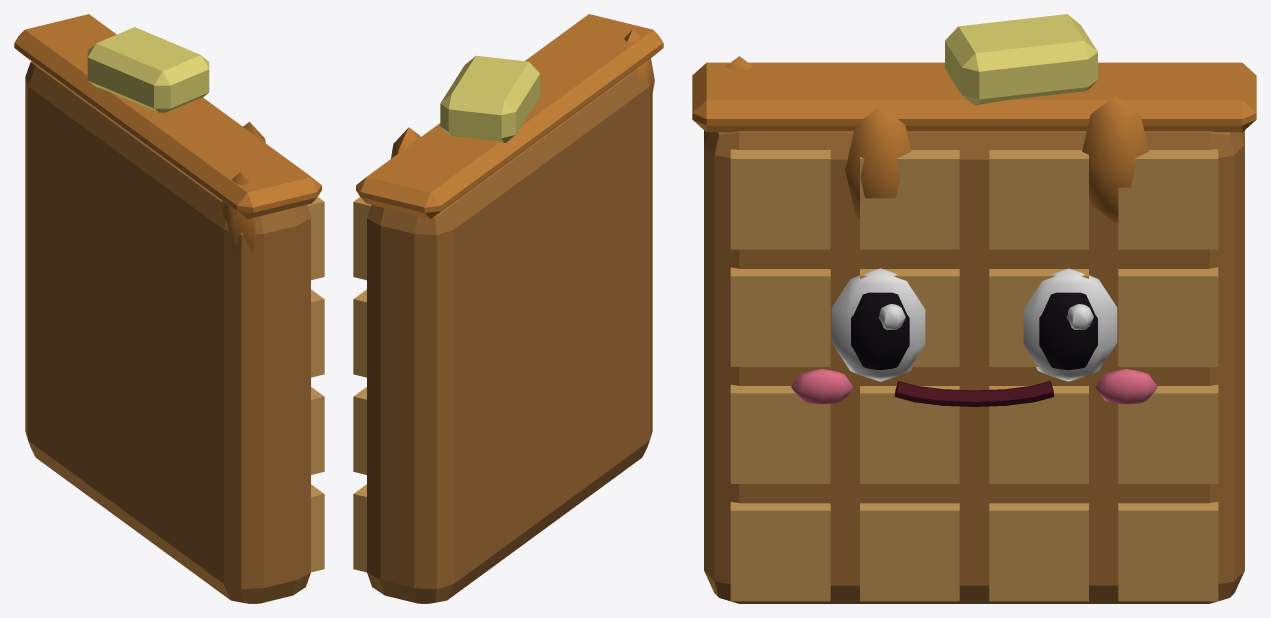
File: waffle.glb
3 views of the same model, side by side, from view 1: azimuth 30°, elevation 25°; view 2: azimuth 150°, elevation 25°; view 3: azimuth 270°, elevation 25° (orthographic). The views are drawn at different scales.
Parts seen in each view (by area): view 1: waffle; view 2: waffle; view 3: waffle.
Part boxes in pixels (x1,y1,x2,y2): waffle: (14,14,324,603); waffle: (353,14,663,603); waffle: (692,14,1256,603).
Bounding box in the file's own units: 0.1436 × 0.525 × 0.48.
